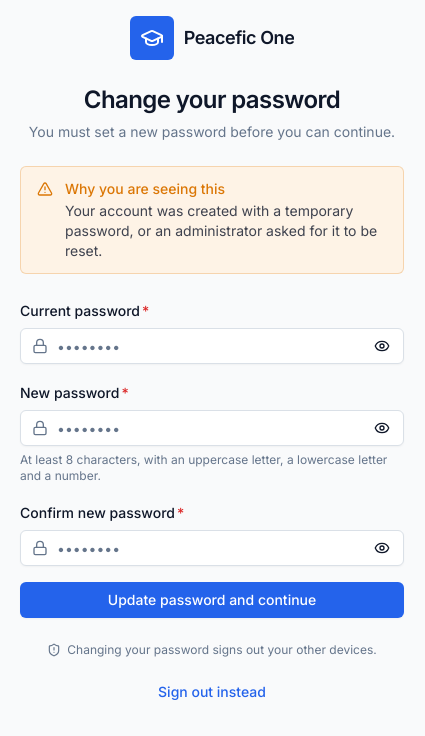
Test: Change password page › rejects a mismatched confirmation
Type "OldPassw0rd" into the password field labelled "Current password*" at {"x": 212, "y": 346}, box [20, 328, 404, 364]
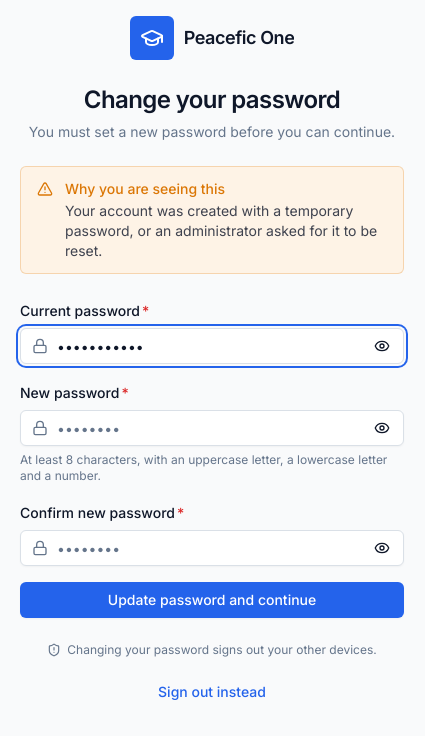
Type "NewPassw0rd" into the password field labelled "New password*" at {"x": 212, "y": 428}, box [20, 410, 404, 446]
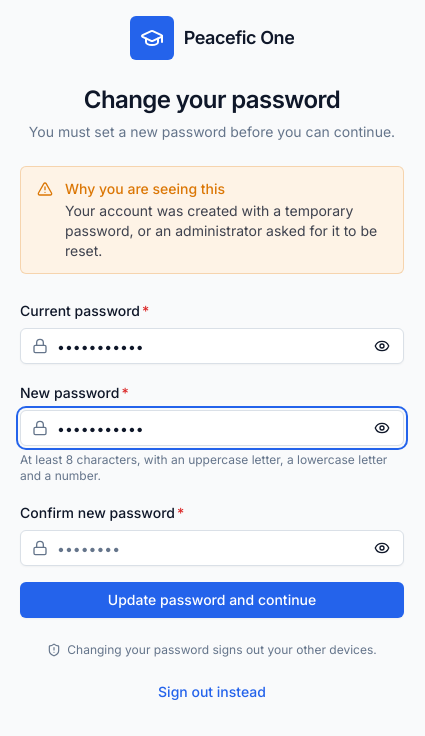
Type "Different0ne" into the password field labelled "Confirm new password*" at {"x": 212, "y": 548}, box [20, 530, 404, 566]
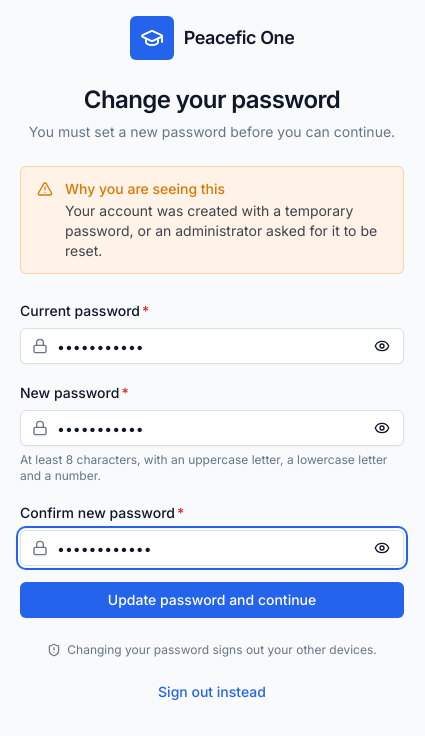
Click the button "Update password and continue" at {"x": 212, "y": 600}, box [20, 582, 404, 618]
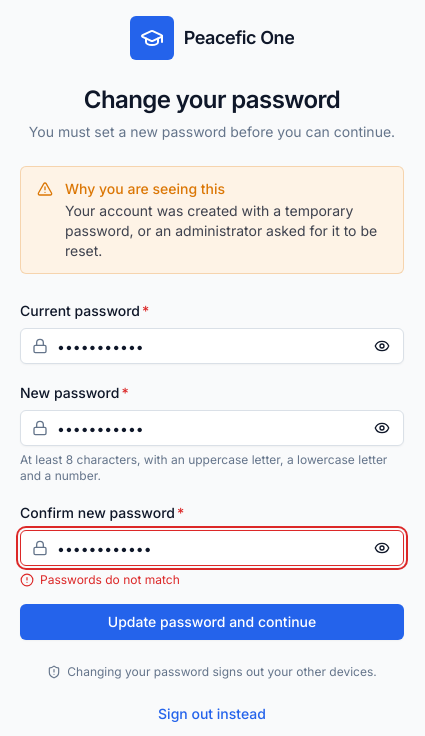
expect the text "Passwords do not match" is shown: met, box [20, 572, 180, 587]
